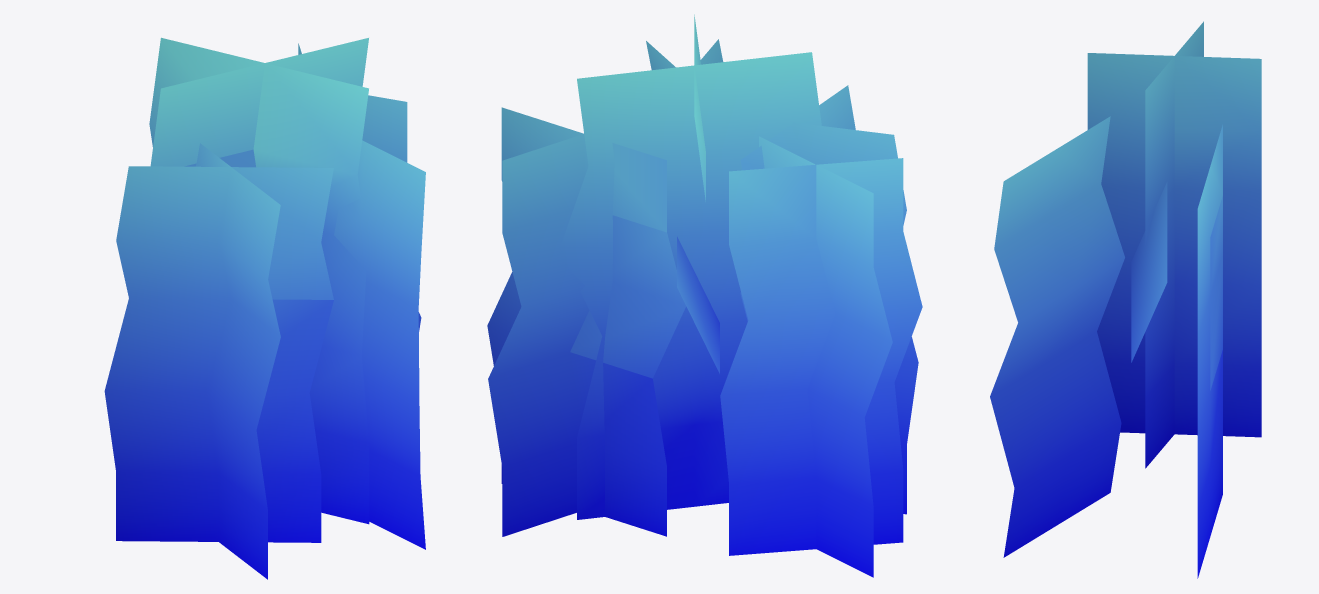
Rendered from SM_Env_Seaweed_02.gltf.
The picture shows the model from 3 angles, left to right: view 1: azimuth 30°, elevation 25°; view 2: azimuth 150°, elevation 25°; view 3: azimuth 270°, elevation 25°; orthographic projection.
Parts seen in each view (by area): view 1: SM_Env_Seaweed_02_LOD0; view 2: SM_Env_Seaweed_02_LOD0; view 3: SM_Env_Seaweed_02_LOD0.
Boxes of the visible parts, x1,y1,x2,y2 form: SM_Env_Seaweed_02_LOD0: (104, 37, 425, 579); SM_Env_Seaweed_02_LOD0: (487, 14, 922, 577); SM_Env_Seaweed_02_LOD0: (990, 21, 1261, 578).
Size of the model in its own units: 2.14 by 2.2 by 1.63.
